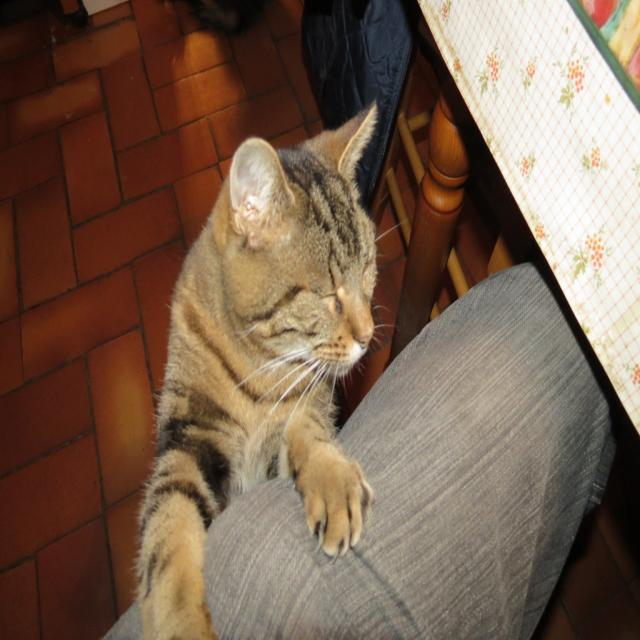Cat: (128, 98, 410, 638)
